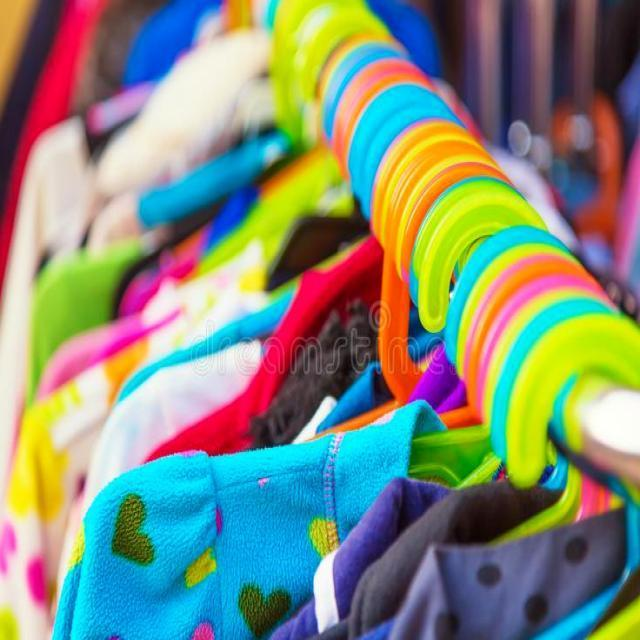clothes: (1, 79, 395, 640), (146, 296, 640, 640)
